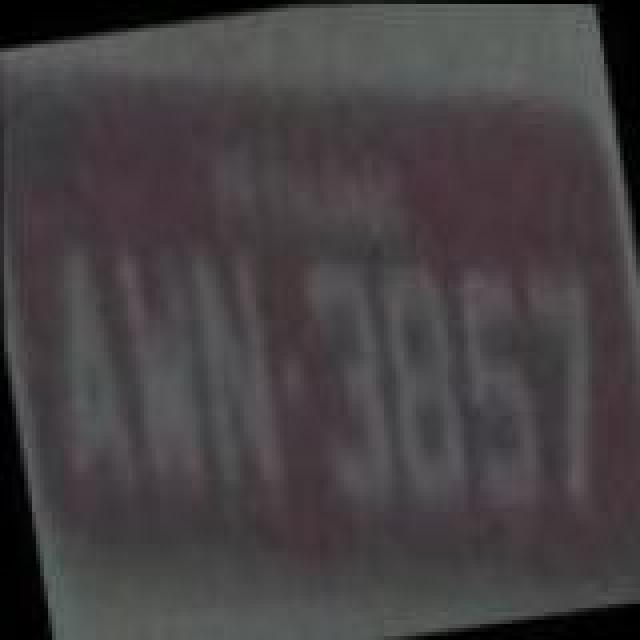3: (292, 246, 404, 526)
7: (518, 254, 618, 514)
8: (364, 244, 476, 520), (442, 256, 550, 520)
A: (28, 228, 140, 492)
N: (178, 236, 294, 496)
W: (110, 240, 218, 492)
